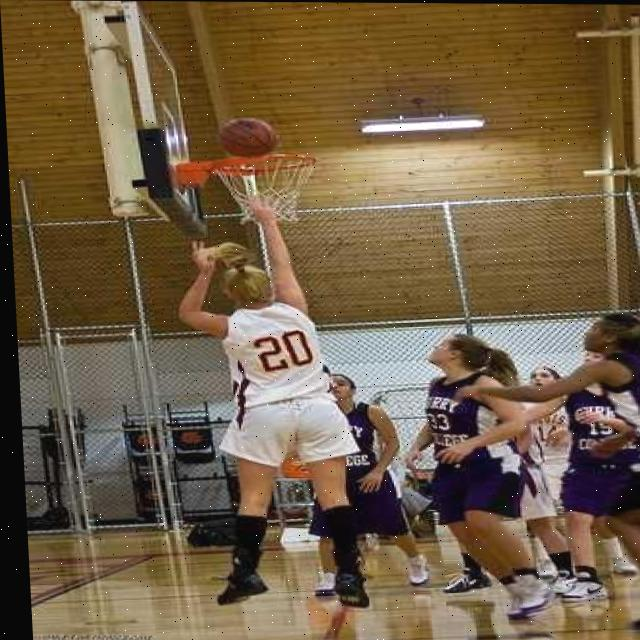basketball: (215, 115, 281, 160)
hoop: (209, 152, 320, 226)
